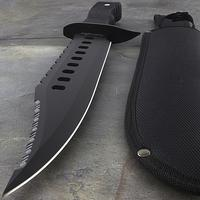knife: (1, 3, 113, 198)
